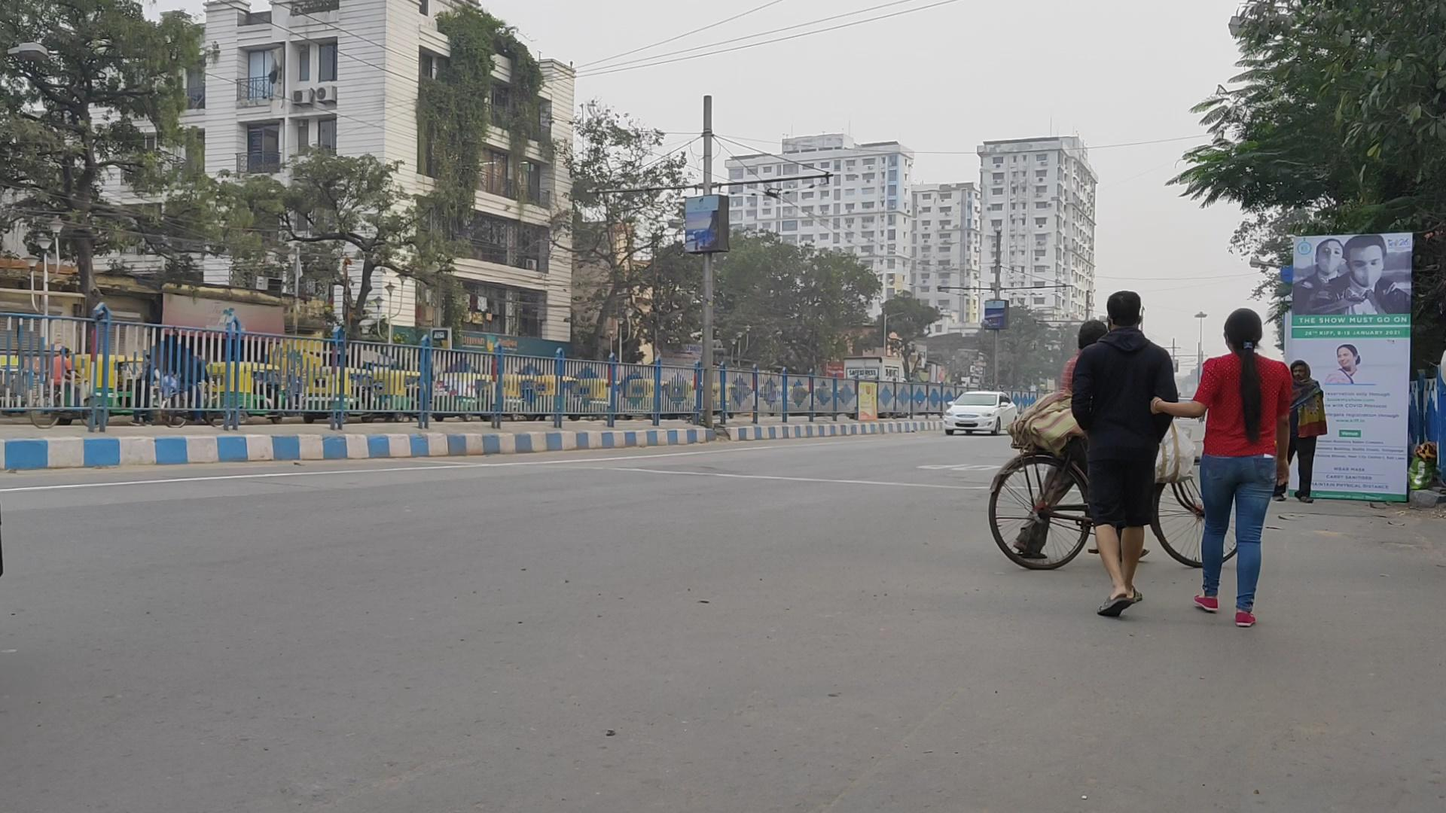bike: (988, 322, 1250, 571)
car: (942, 389, 1019, 439)
